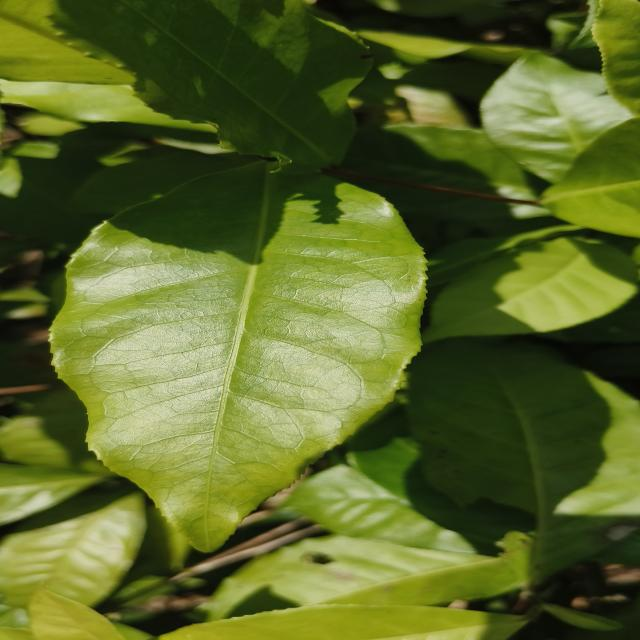Leaf: (51, 154, 424, 551), (409, 338, 640, 579), (54, 0, 370, 174), (202, 535, 515, 621), (423, 237, 636, 342), (480, 52, 632, 183), (0, 493, 146, 607), (284, 464, 473, 552), (341, 124, 534, 201), (159, 604, 524, 640), (542, 118, 640, 237), (0, 463, 101, 524), (378, 184, 535, 222), (29, 589, 124, 640)
